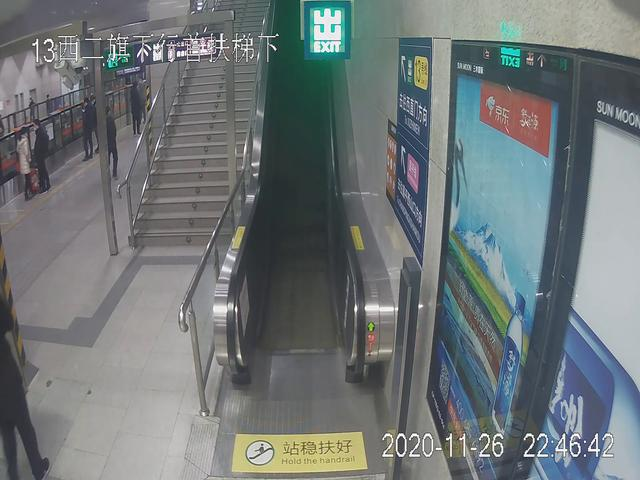person: (101, 101, 120, 182), (33, 117, 51, 194), (18, 126, 33, 198), (82, 96, 94, 166), (129, 81, 143, 135)
